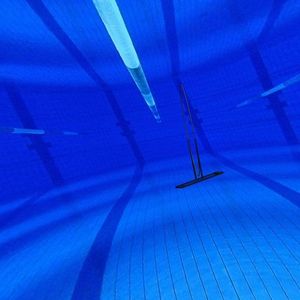circle: (175, 82, 225, 191)
